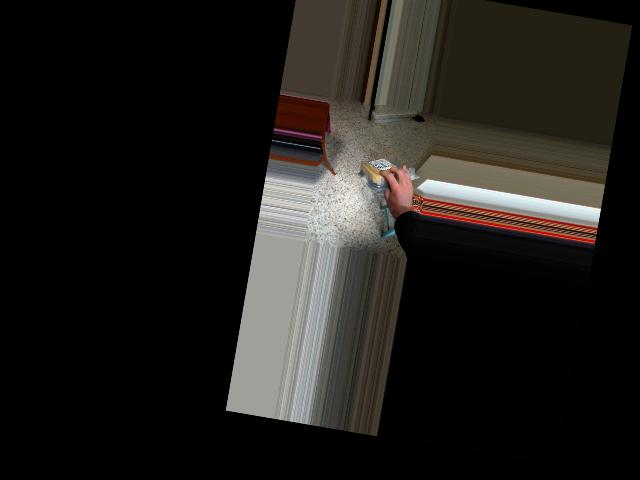cheese: (355, 153, 405, 189)
